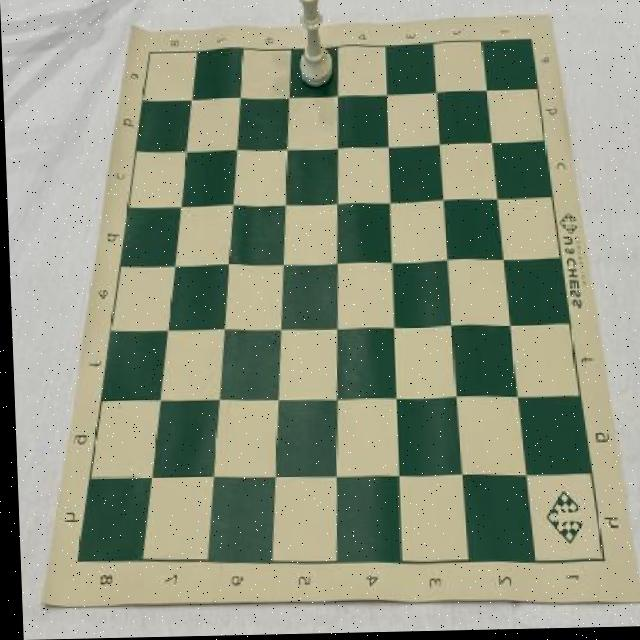white-bishop: (296, 0, 333, 90)
